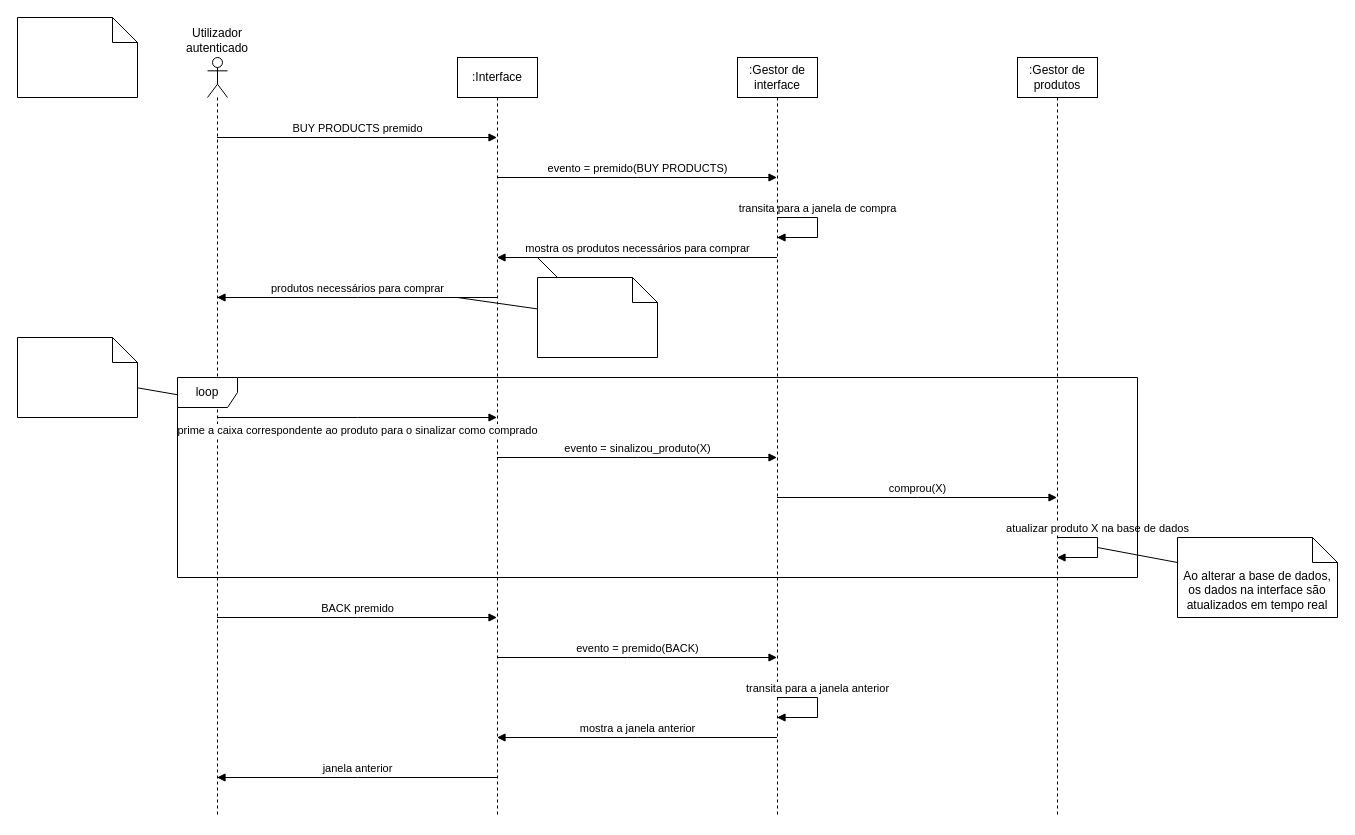
This 1355x835 diagram has some shape labels left out. Each missing label, with the box of its shape:
Mostra também os produtos comprados nas ultimas 24h: (536, 276, 658, 358)
O ator já transitou para a janela dos produtos: (16, 16, 138, 98)
Repete-se para cada produto que o utilizador comprar: (16, 336, 138, 418)
